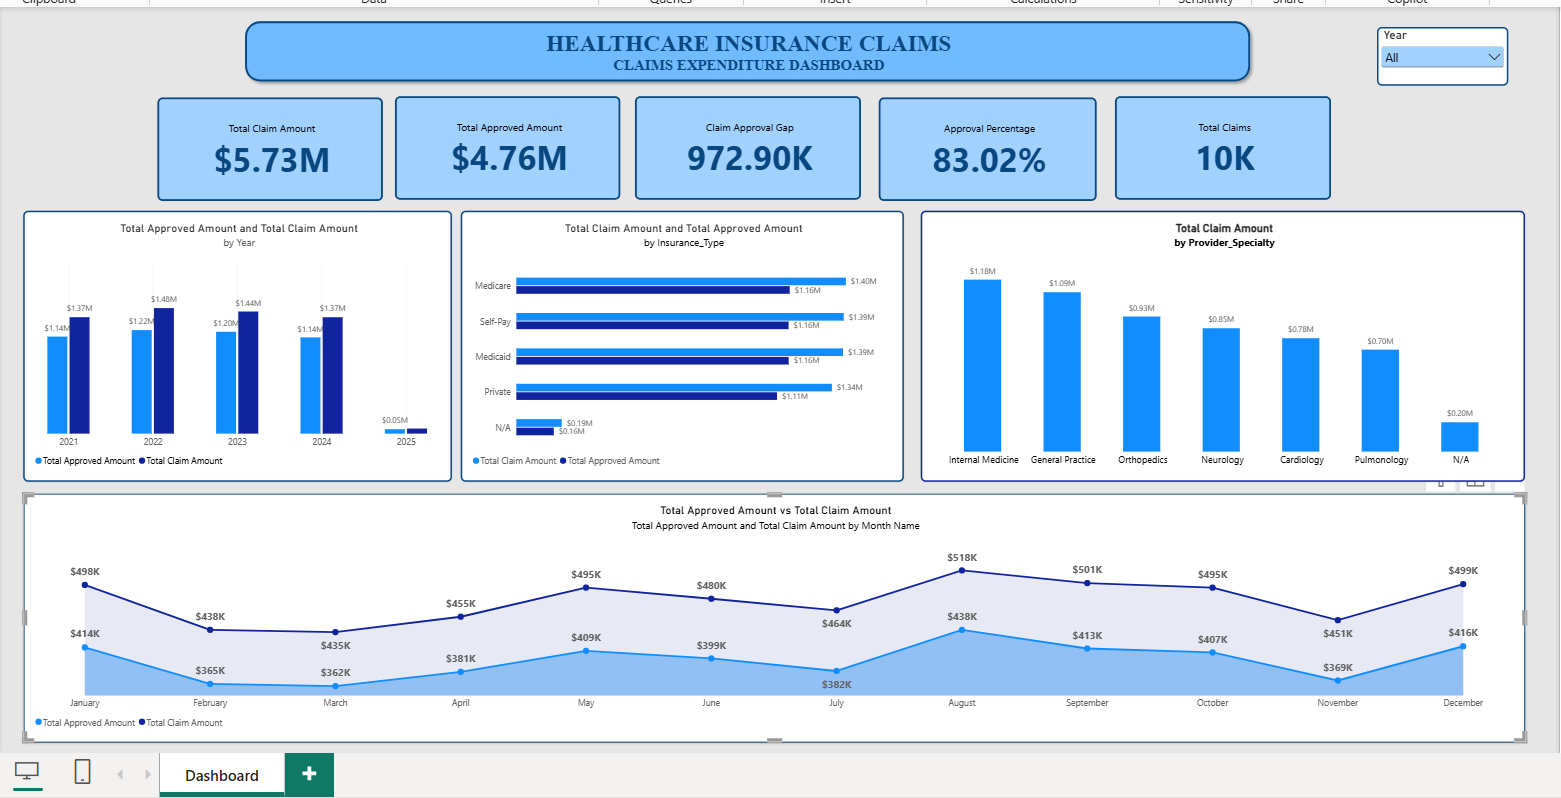

This screenshot's page, from the dashboard's own definition file:
{"tool":"powerbi","page":{"name":"Dashboard","canvas":[2500,1200],"ordinal":0},"visuals":[{"type":"cardVisual","fields":{"Data":["healthcare_fraud_detection.Total Claim Amount"]},"box":[249.8,144.3,364.3,168.8],"z":0},{"type":"clusteredColumnChart","fields":{"Category":["healthcare_fraud_detection.Claim_Submission_Date.Variation.Date Hierarchy.Year","healthcare_fraud_detection.Claim_Submission_Date.Variation.Date Hierarchy.Quarter","healthcare_fraud_detection.Claim_Submission_Date.Variation.Date Hierarchy.Month","healthcare_fraud_detection.Claim_Submission_Date.Variation.Date Hierarchy.Day"],"Y":["healthcare_fraud_detection.Total Approved Amount","healthcare_fraud_detection.Total Claim Amount"]},"box":[34.2,327.8,689.5,436.1],"z":0},{"type":"lineChart","title":"Total Approved Amount vs Total Claim Amount","fields":{"Category":["healthcare_fraud_detection.Month Name"],"Y":["healthcare_fraud_detection.Total Approved Amount","healthcare_fraud_detection.Total Claim Amount"]},"box":[34.1,781.3,2416.4,402],"z":0},{"type":"shape","box":[381.5,13.6,1634.7,114.6],"z":1000,"group":"g1"},{"type":"cardVisual","fields":{"Data":["healthcare_fraud_detection.Total Approved Amount"]},"box":[631.8,143.5,364.3,168.8],"z":1000},{"type":"clusteredBarChart","fields":{"Category":["healthcare_fraud_detection.Insurance_Type"],"Y":["healthcare_fraud_detection.Total Claim Amount","healthcare_fraud_detection.Total Approved Amount"]},"box":[738.1,327,713.1,436],"z":1000},{"type":"slicer","fields":{"Values":["healthcare_fraud_detection.Year"]},"box":[2212,31.8,211.1,94.5],"z":2000},{"type":"cardVisual","fields":{"Data":["healthcare_fraud_detection.Claim Approval Gap"]},"box":[1017.3,143.5,365.6,168.3],"z":2000},{"type":"textbox","box":[399.6,35.7,1602.6,72.4],"z":3000,"group":"g1"},{"type":"cardVisual","fields":{"Data":["healthcare_fraud_detection.Approval Percentage"]},"box":[1409.3,145.1,352.9,168.3],"z":3000},{"type":"clusteredColumnChart","fields":{"Category":["healthcare_fraud_detection.Provider_Specialty"],"Y":["healthcare_fraud_detection.Total Claim Amount"]},"box":[1478.5,327,972,436],"z":3001},{"type":"group","id":"g1","title":"Group 2","box":[381.5,13.6,1635.2,113.6],"z":3002},{"type":"cardVisual","fields":{"Data":["healthcare_fraud_detection.Total Claims"]},"box":[1789.4,143.1,349.9,168.9],"z":4000}]}

Visuals, with their boxes in screenshot pixels (x1, y1, x2, y2):
cardVisual - healthcare_fraud_detection.Total Claim Amount: <region>158, 97, 382, 201</region>
clusteredColumnChart - healthcare_fraud_detection.Claim_Submission_Date.Variation.Date Hierarchy.Year x healthcare_fraud_detection.Claim_Submission_Date.Variation.Date Hierarchy.Quarter: <region>25, 210, 450, 479</region>
"Total Approved Amount vs Total Claim Amount" lineChart: <region>25, 489, 1513, 737</region>
shape: <region>239, 17, 1246, 87</region>
cardVisual - healthcare_fraud_detection.Total Approved Amount: <region>393, 96, 617, 200</region>
clusteredBarChart - healthcare_fraud_detection.Insurance_Type x healthcare_fraud_detection.Total Claim Amount: <region>459, 209, 898, 478</region>
slicer - healthcare_fraud_detection.Year: <region>1366, 28, 1496, 86</region>
cardVisual - healthcare_fraud_detection.Claim Approval Gap: <region>630, 96, 856, 200</region>
textbox: <region>250, 30, 1237, 75</region>
cardVisual - healthcare_fraud_detection.Approval Percentage: <region>872, 97, 1089, 201</region>
clusteredColumnChart - healthcare_fraud_detection.Provider_Specialty x healthcare_fraud_detection.Total Claim Amount: <region>914, 209, 1513, 478</region>
"Group 2" group: <region>239, 17, 1246, 86</region>
cardVisual - healthcare_fraud_detection.Total Claims: <region>1106, 96, 1321, 200</region>
